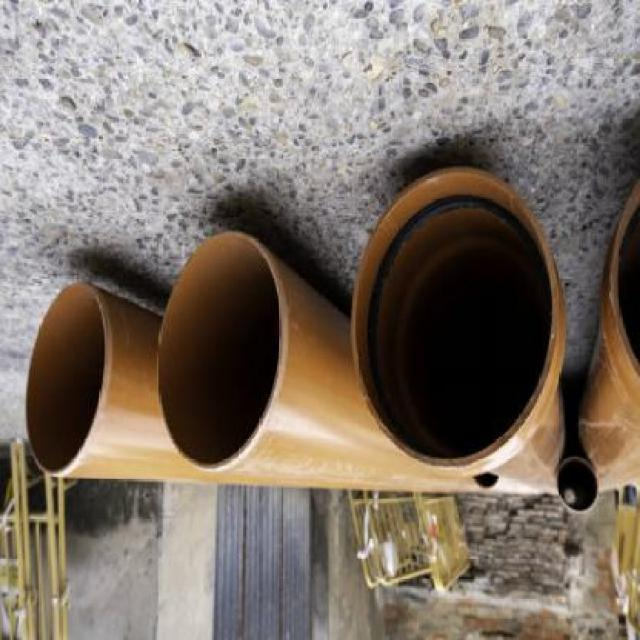pipe: (349, 166, 557, 468), (157, 231, 282, 470), (25, 283, 108, 474)
